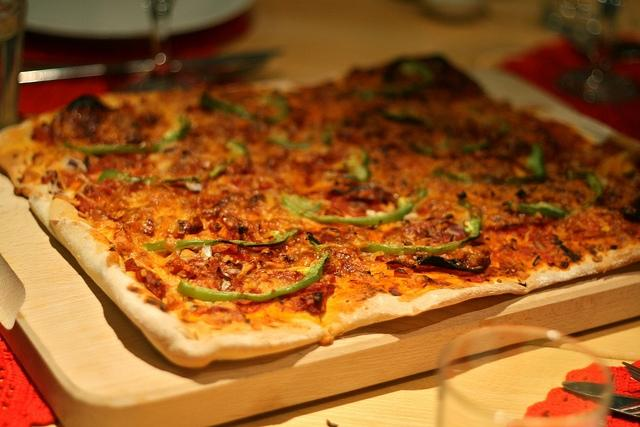bell pepper: (177, 251, 330, 302), (364, 213, 482, 256), (64, 114, 190, 154), (302, 201, 416, 225), (202, 94, 291, 124), (148, 235, 287, 250), (504, 144, 545, 184), (503, 202, 567, 218), (377, 107, 424, 126), (576, 172, 604, 200), (268, 132, 316, 148), (97, 170, 157, 182), (384, 83, 426, 98), (225, 142, 248, 158), (462, 139, 488, 151)
